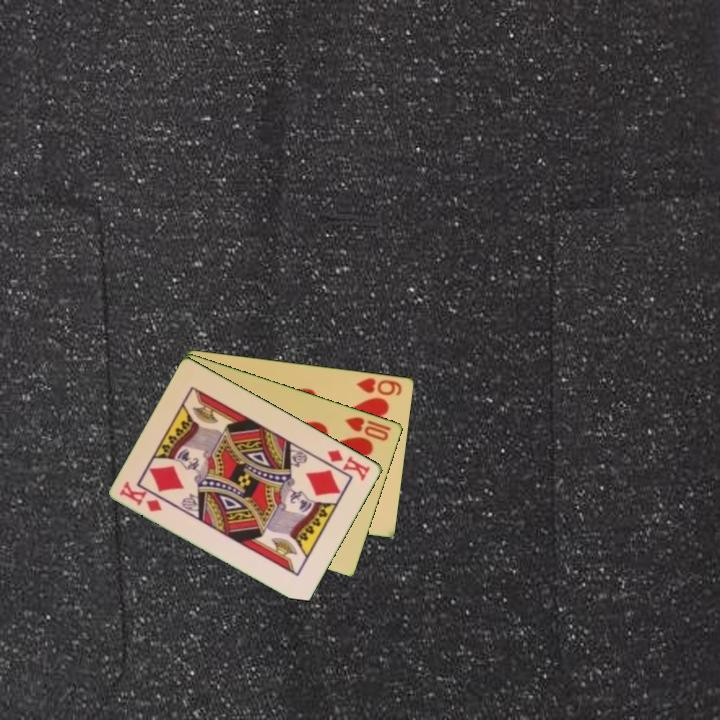10h: (341, 413, 394, 444)
6h: (353, 374, 405, 398)
Kd: (324, 446, 373, 484), (116, 477, 165, 515)
